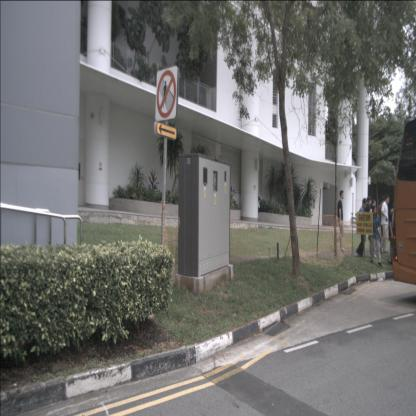human-pedestrian-adult: (334, 189, 346, 252), (370, 206, 382, 269), (356, 198, 368, 256), (380, 194, 391, 255), (364, 197, 374, 253), (369, 199, 378, 259), (388, 204, 396, 266), (378, 196, 386, 252)
